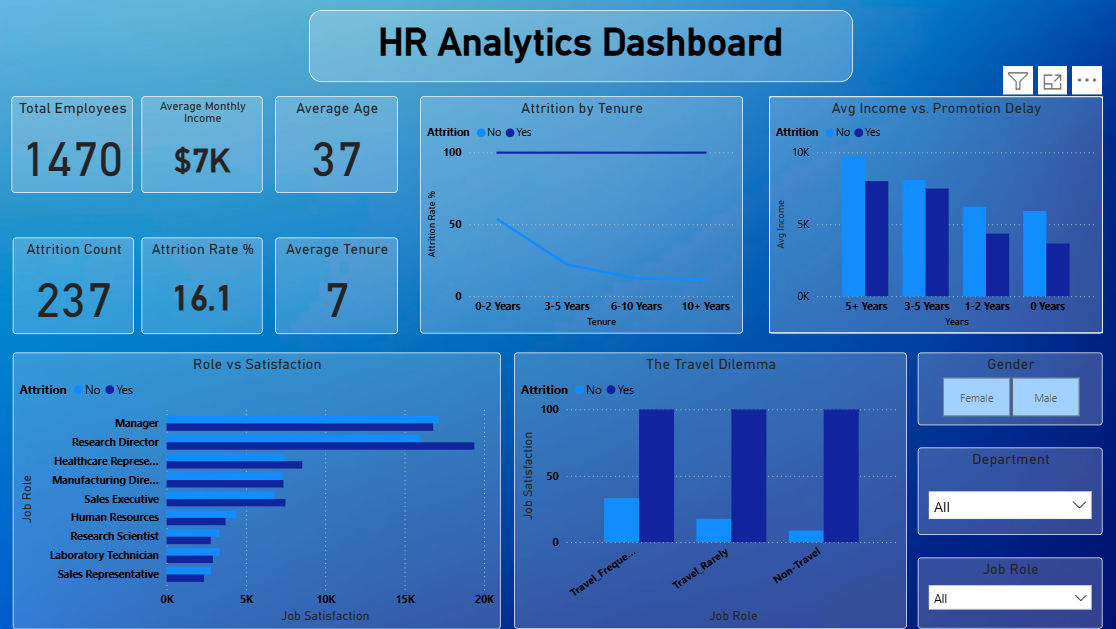

Layout of this report page (visuals, bound fields, positions):
{"tool":"powerbi","page":{"name":"Page 1","canvas":[1280,720],"ordinal":0},"visuals":[{"type":"card","title":"Total Employees","fields":{"Values":["CountNonNull(HR-Employee-Attrition.EmployeeNumber)"]},"box":[13.8,110,138.8,110],"z":0},{"type":"textbox","box":[353.8,11.2,621.2,82.5],"z":1000},{"type":"card","title":"Average Monthly Income ","fields":{"Values":["HR-Employee-Attrition.Average Monthly Income"]},"box":[163.1,110,138.5,110],"z":2000},{"type":"card","title":"Attrition Count","fields":{"Values":["HR-Employee-Attrition.AttritionCount"]},"box":[15.7,271.4,138.6,110],"z":3000},{"type":"card","title":"Attrition Rate %","fields":{"Values":["HR-Employee-Attrition.Attrition Rate (%)"]},"box":[162.9,271.4,138.6,110],"z":4000},{"type":"lineChart","title":"Attrition by Tenure","fields":{"Category":["HR-Employee-Attrition.TenureGroup"],"Y":["HR-Employee-Attrition.Attrition Rate (%)"],"Series":["HR-Employee-Attrition.Attrition"]},"box":[481.4,110,368.6,271.4],"z":5000},{"type":"clusteredBarChart","title":"Role vs Satisfaction","fields":{"Y":["HR-Employee-Attrition.Average Monthly Income"],"Category":["HR-Employee-Attrition.JobRole"],"Series":["HR-Employee-Attrition.Attrition"]},"box":[15,402.5,557.5,317.5],"z":7000},{"type":"clusteredColumnChart","title":"Avg Income vs. Promotion Delay","fields":{"Category":["HR-Employee-Attrition.Promotion Group"],"Y":["HR-Employee-Attrition.Average Monthly Income"],"Series":["HR-Employee-Attrition.Attrition"]},"box":[880,110,381.4,271.4],"z":8000},{"type":"slicer","title":"Gender","fields":{"Values":["HR-Employee-Attrition.Gender"]},"box":[1050,402.9,211.4,82.9],"z":9000},{"type":"slicer","title":"Department","fields":{"Values":["HR-Employee-Attrition.Department"]},"box":[1050,511.4,211.4,100],"z":10000},{"type":"slicer","title":"Job Role","fields":{"Values":["HR-Employee-Attrition.JobRole"]},"box":[1050,637.5,211.2,82.5],"z":11000},{"type":"card","title":"Average Age","fields":{"Values":["HR-Employee-Attrition.AvgAge"]},"box":[316.2,110,140,110],"z":12000},{"type":"card","title":"Average Tenure","fields":{"Values":["Avg(HR-Employee-Attrition.YearsAtCompany)"]},"box":[315.7,271.4,140,110],"z":13000},{"type":"clusteredColumnChart","title":"The Travel Dilemma","fields":{"Category":["HR-Employee-Attrition.BusinessTravel"],"Series":["HR-Employee-Attrition.Attrition"],"Y":["HR-Employee-Attrition.Attrition Rate (%)"]},"box":[588.6,402.9,448.6,317.1],"z":13001}]}

Visuals, with their boxes in screenshot pixels (x1, y1, x2, y2), scaled from the page's 1280x720 canvas onto the 1116x629 screenshot:
"Total Employees" card: box(12, 96, 133, 192)
textbox: box(308, 10, 850, 82)
"Average Monthly Income " card: box(142, 96, 263, 192)
"Attrition Count" card: box(14, 237, 135, 333)
"Attrition Rate %" card: box(142, 237, 263, 333)
"Attrition by Tenure" lineChart: box(420, 96, 741, 333)
"Role vs Satisfaction" clusteredBarChart: box(13, 352, 499, 628)
"Avg Income vs. Promotion Delay" clusteredColumnChart: box(767, 96, 1100, 333)
"Gender" slicer: box(915, 352, 1100, 424)
"Department" slicer: box(915, 447, 1100, 534)
"Job Role" slicer: box(915, 557, 1100, 628)
"Average Age" card: box(276, 96, 398, 192)
"Average Tenure" card: box(275, 237, 397, 333)
"The Travel Dilemma" clusteredColumnChart: box(513, 352, 904, 628)
